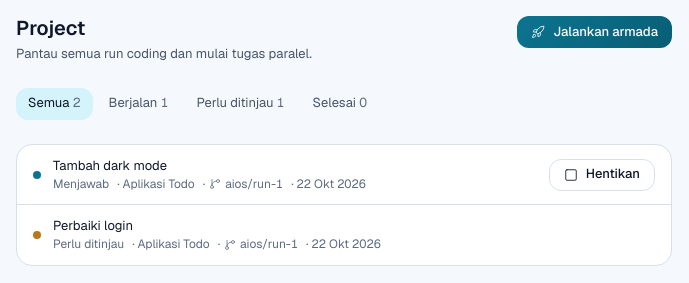
it: WorkspaceScreen › daftar run dengan status, project, dan branch; filter menyaring
Expected: the number of list items is 2, [17,145,671,205]; [33,218,655,253]
Expected: the text "· Aplikasi Todo" is shown 2 times, [117,176,195,192]; [132,236,210,253]
Click the button "Perlu ditinjau 1".
click(241, 104)  # box [184,88,297,120]
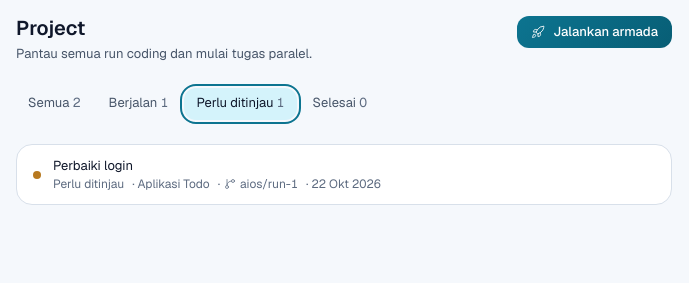
Expected: the text "Perbaiki login" is shown, [53,157,133,174]
Expected: the number of list items is 1, [33,157,655,192]
Expected: the button "Tambah dark mode" is gone
Click the button "Selesai 0".
click(340, 104)  # box [301,88,379,120]
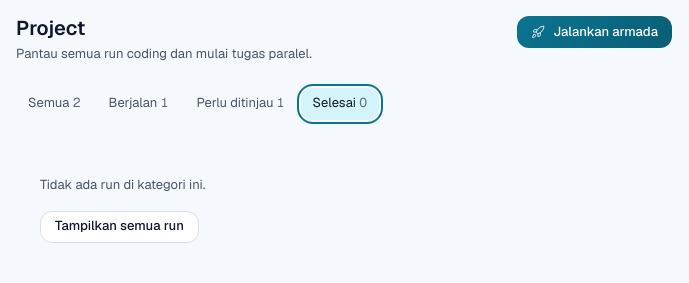
Expected: the text "Tidak ada run di kategori ini." is shown, [40,176,205,195]
